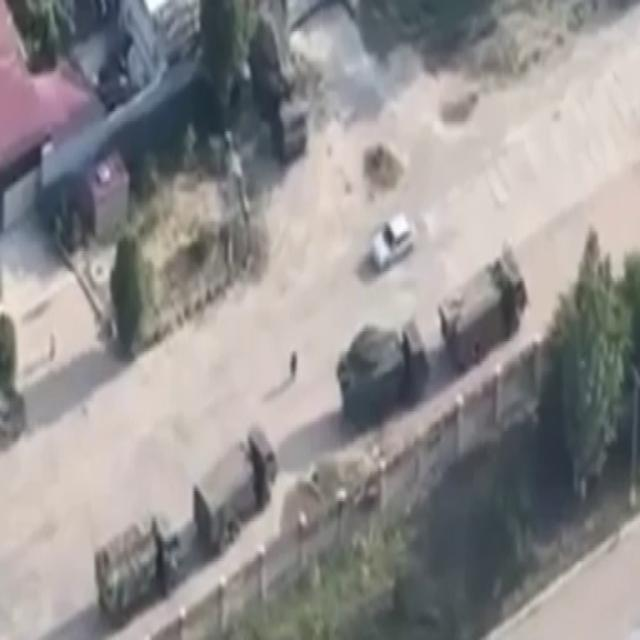CAR: (369, 208, 416, 266)
TRUCK: (438, 244, 530, 384), (192, 421, 276, 556), (94, 508, 181, 634), (335, 314, 427, 432)
